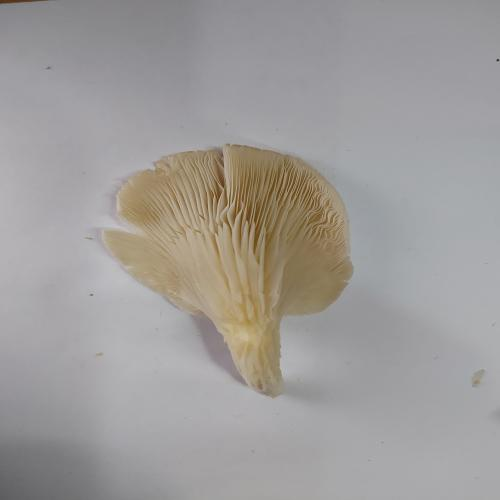Oyster Mushroom: (100, 142, 354, 398)
